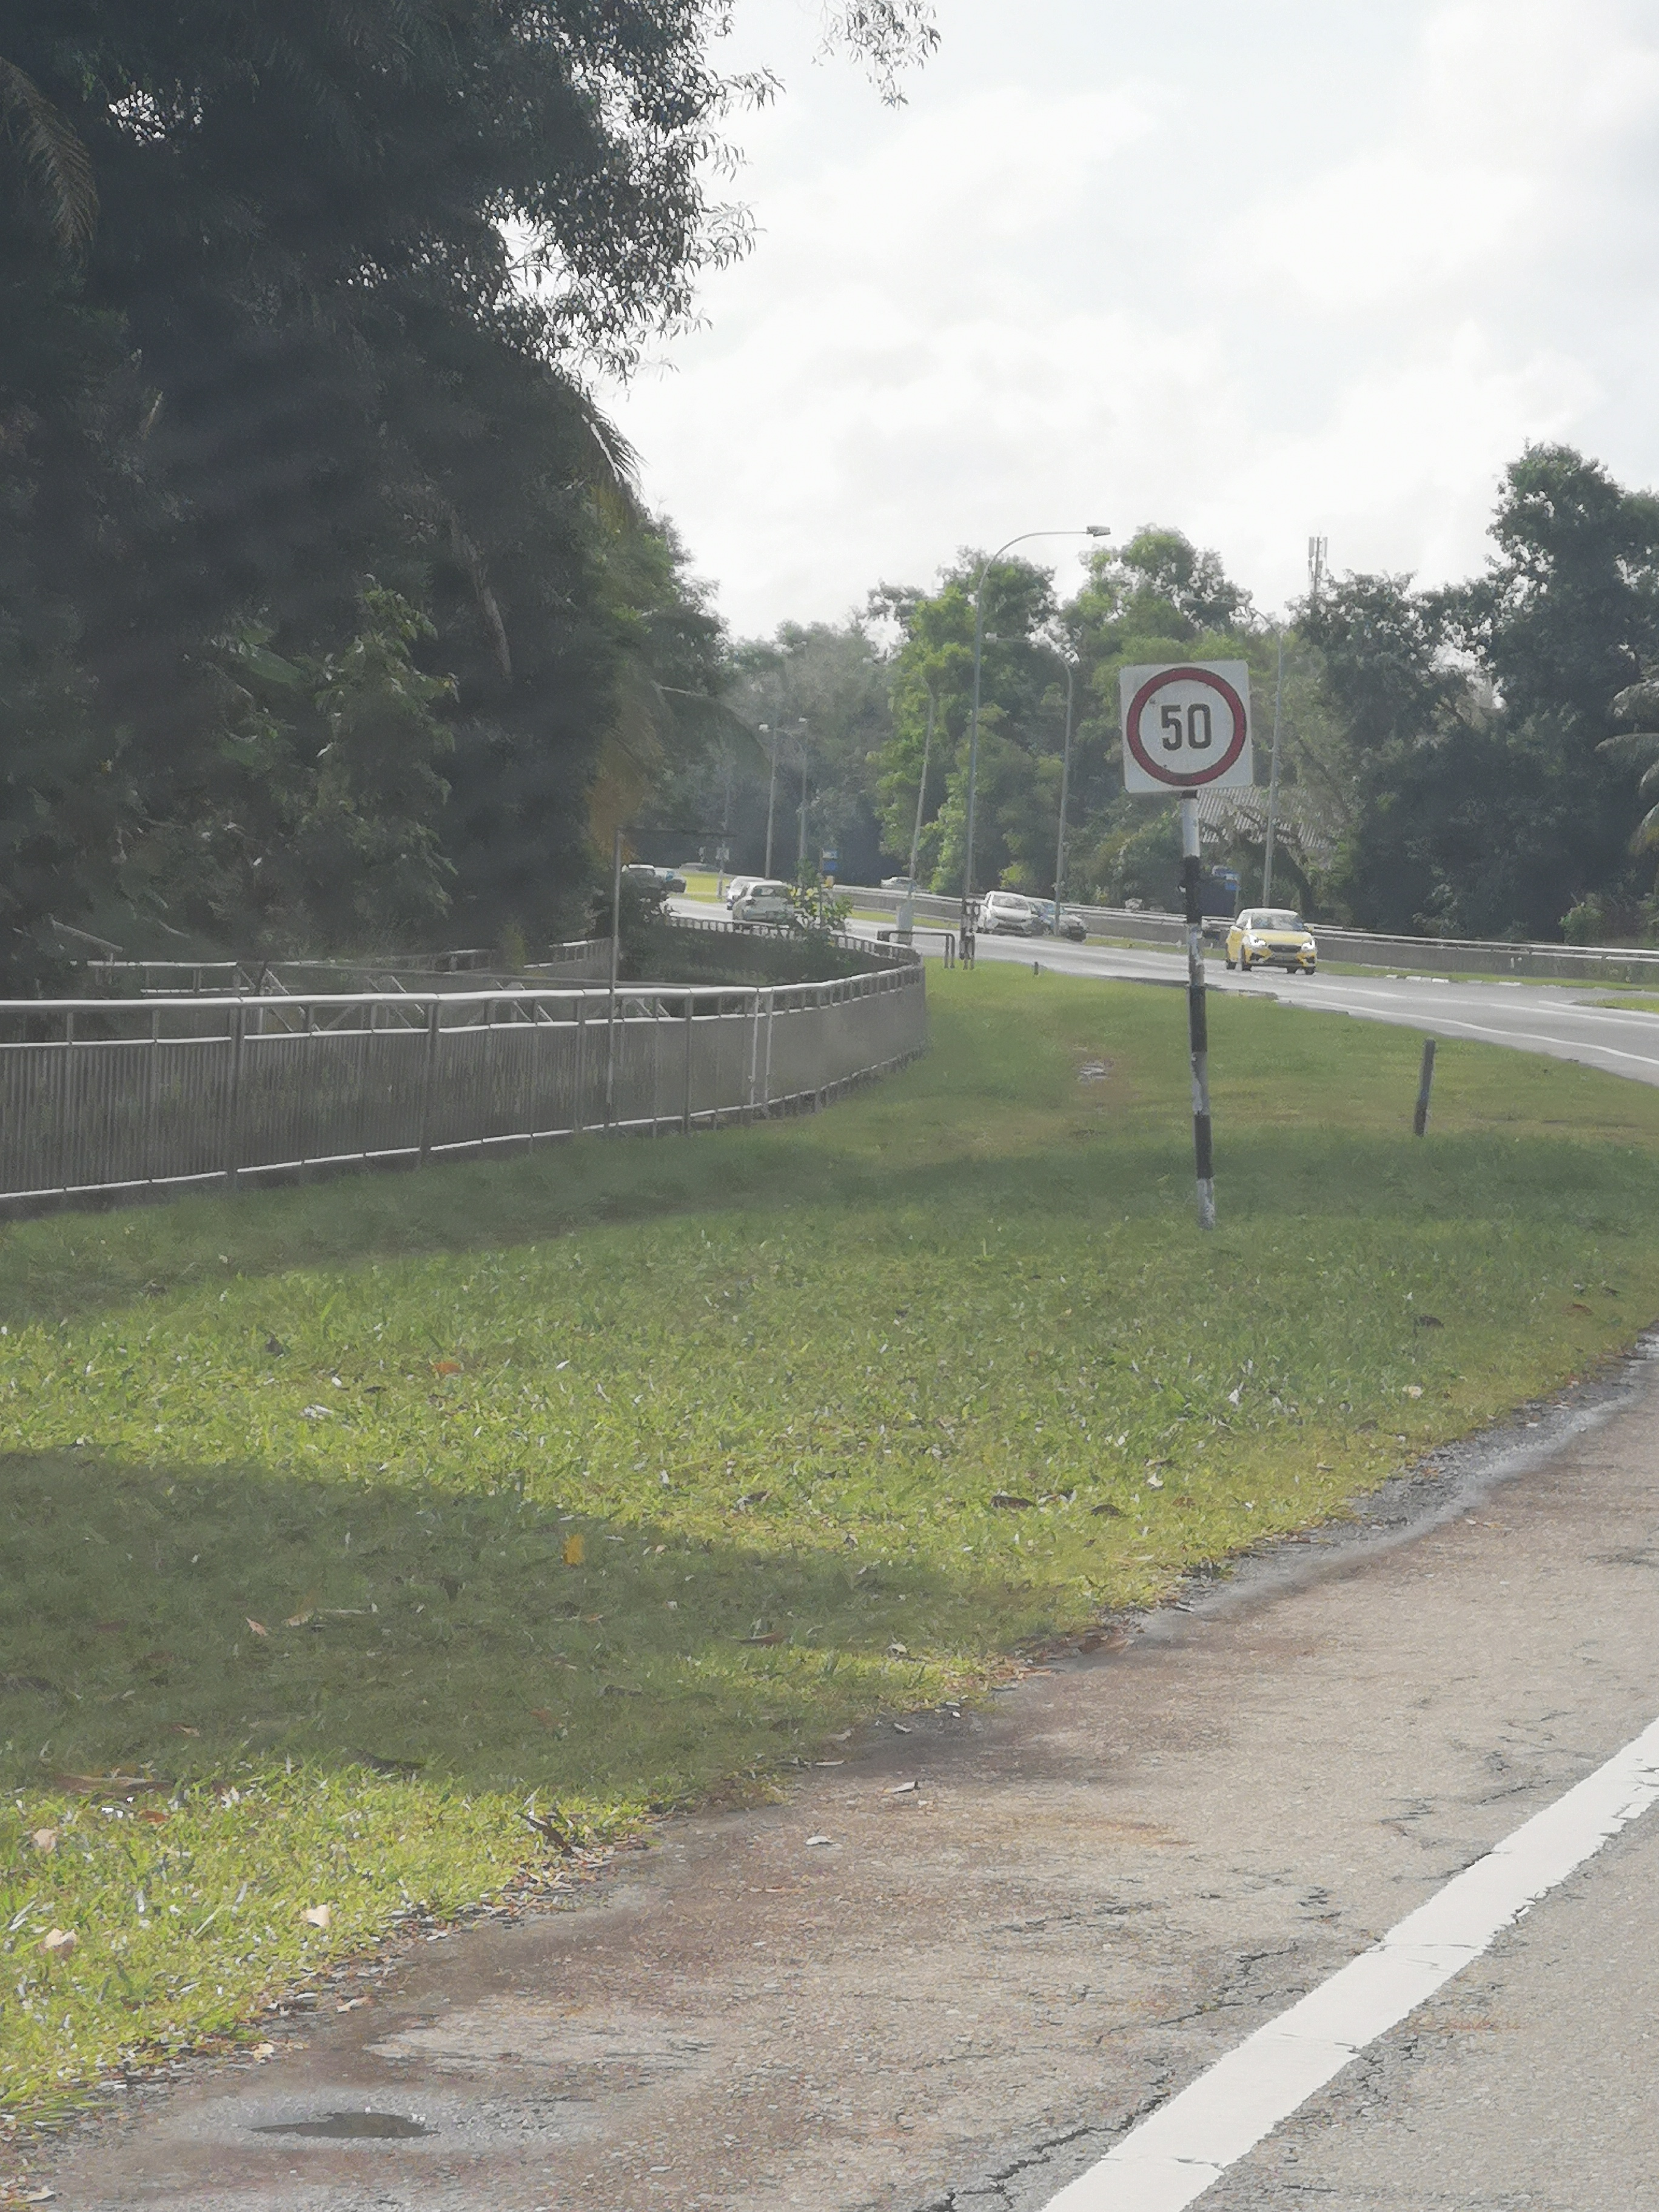speed limit 50: (1115, 653, 1263, 801)
